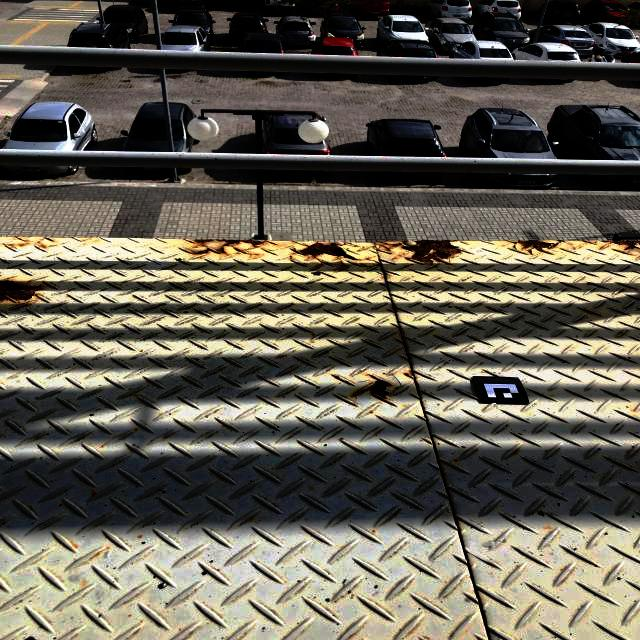Corrosion: (376, 240, 461, 262), (181, 239, 269, 256), (350, 376, 394, 403), (299, 242, 360, 261), (0, 280, 41, 304), (509, 240, 560, 254), (606, 240, 640, 250), (363, 258, 381, 267), (316, 258, 333, 265), (340, 242, 358, 248), (335, 265, 349, 271), (406, 368, 415, 377), (382, 270, 389, 279), (291, 248, 299, 254)
